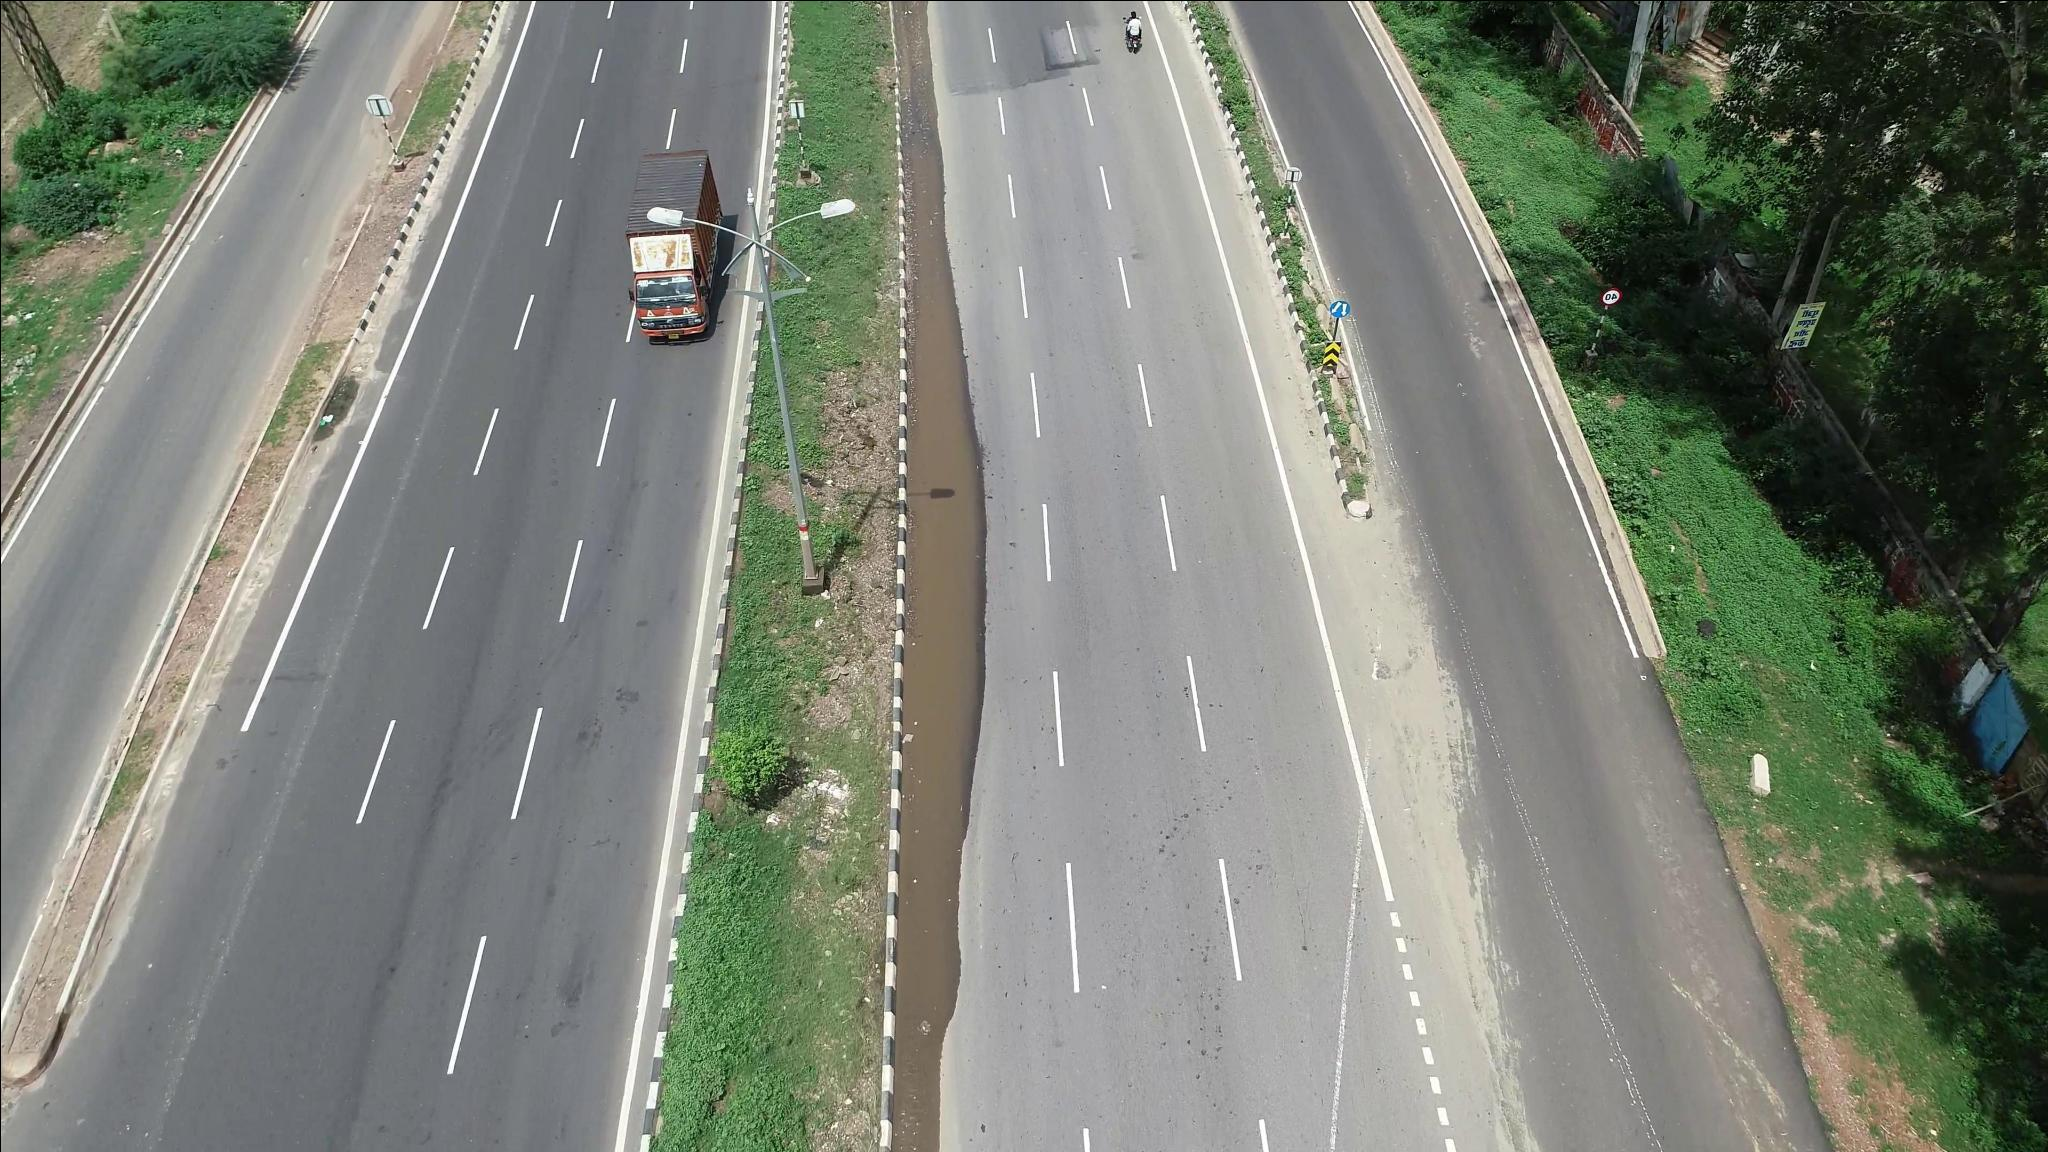Waterlogging: (899, 160, 1004, 917)
